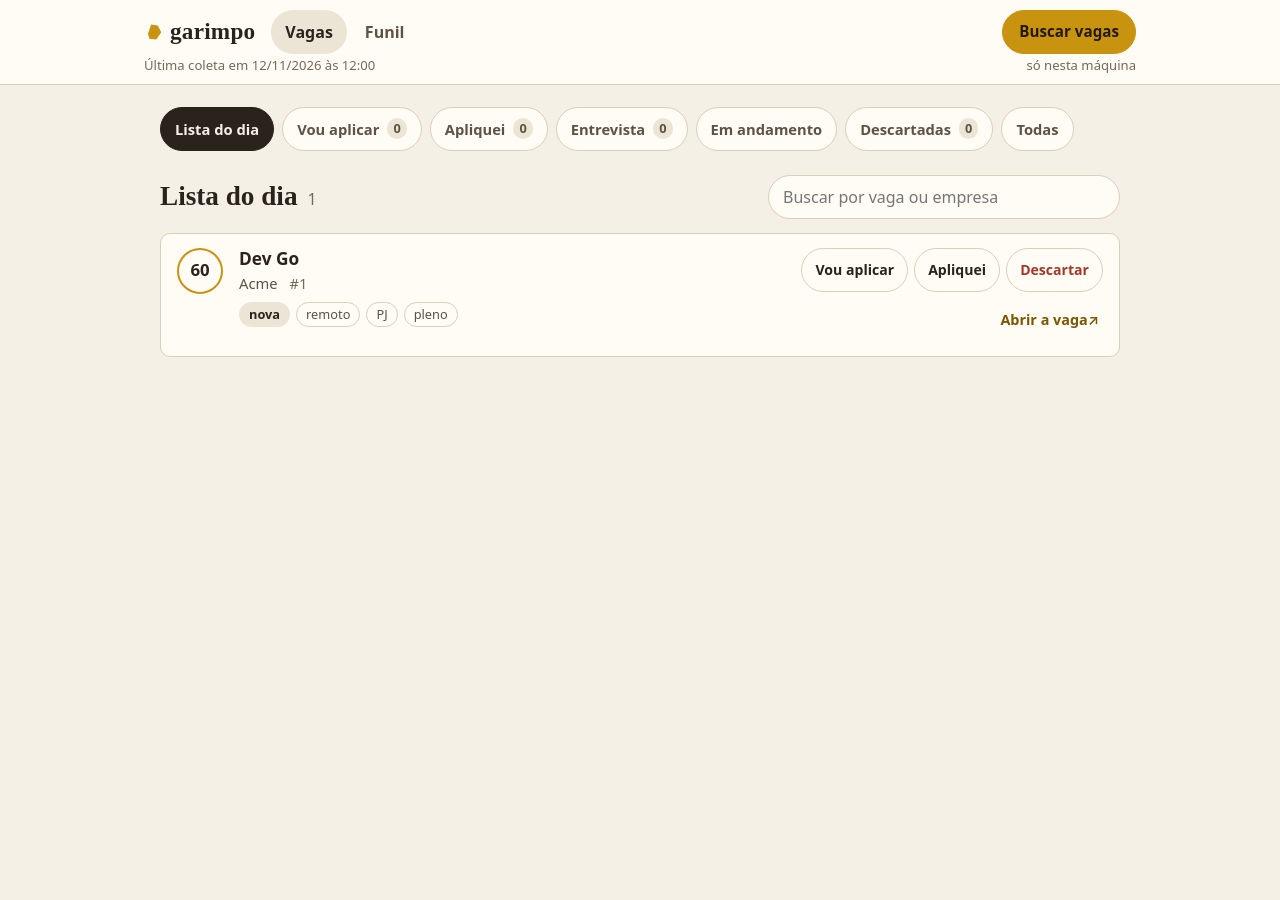
it: collecting from the panel › starts a collection, follows it and loads the new postings
The width and height of the screenshot is (1280, 900).
Later steps or results of the test are not shown.
Expected: the heading "Dev Go" is shown, [239,247,299,270]
Click the button "Buscar vagas" at (1069, 32), box [1002,10,1136,54]
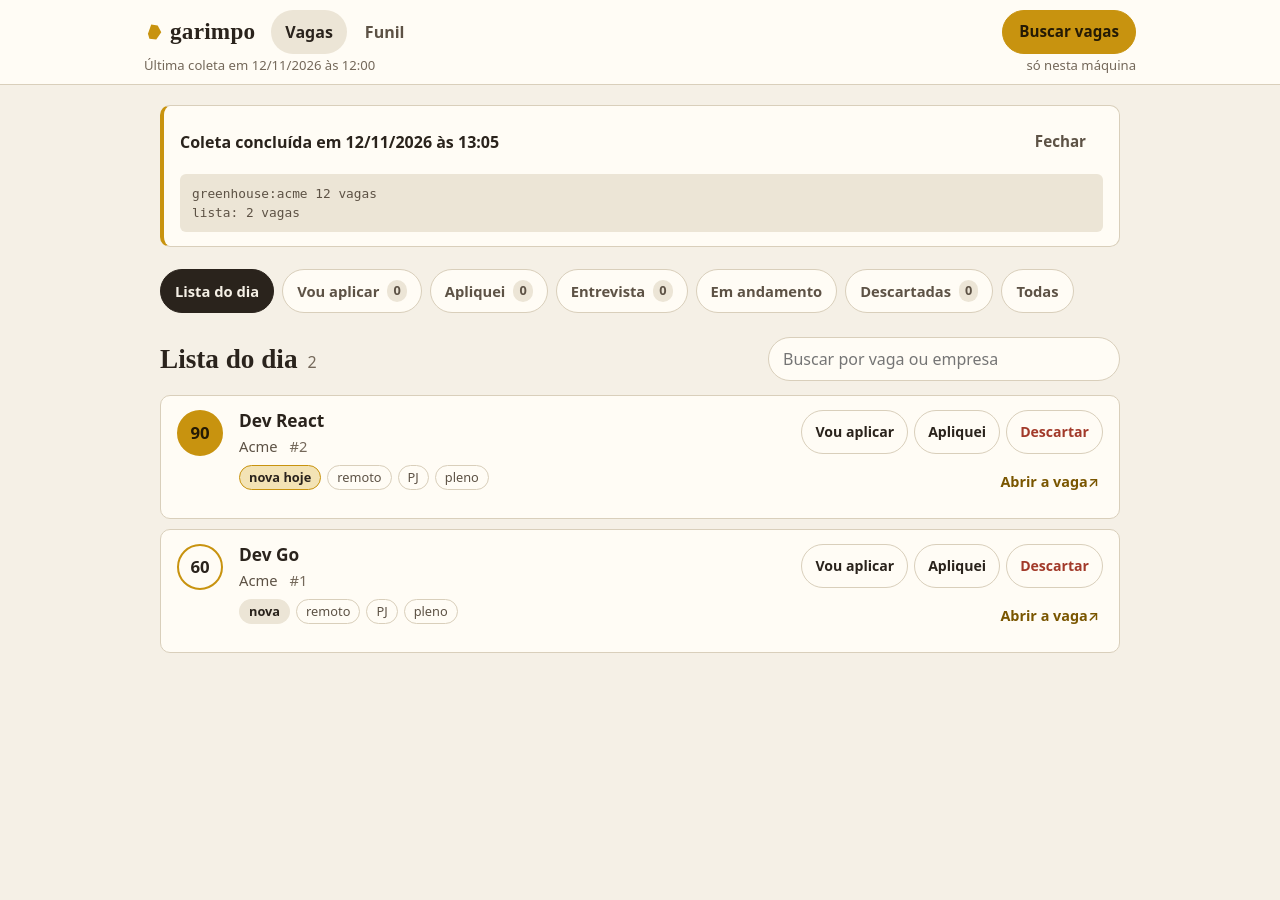
Now the text "greenhouse:acme 12 vagas lista: 2 vagas" is shown, box [180,174,1103,232]
Now the text "Coleta concluída em 12/11/2026 às 13:05" is shown, box [180,130,499,154]
Now the heading "Dev React" is shown, box [239,409,324,432]
